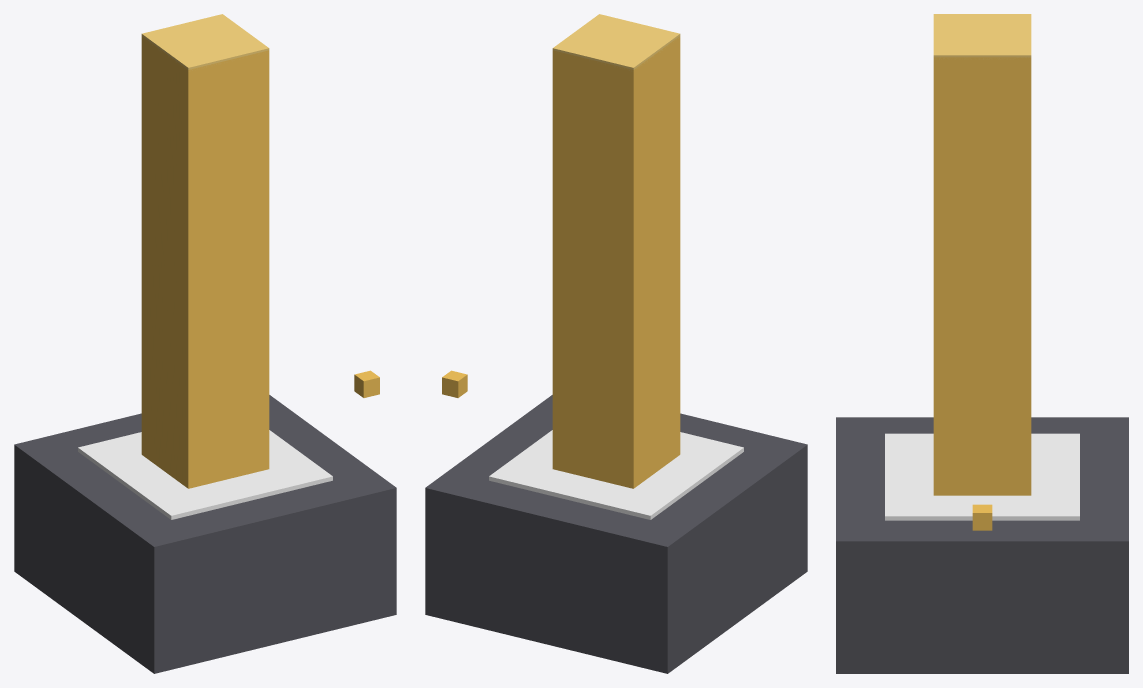
The picture shows the model from 3 angles, left to right: view 1: azimuth 30°, elevation 25°; view 2: azimuth 150°, elevation 25°; view 3: azimuth 270°, elevation 25°; orthographic projection. The views are drawn at different scales.
Parts seen in each view (by area): view 1: plinth, liquid, ring, surface, bead; view 2: plinth, liquid, ring, surface, bead; view 3: plinth, liquid, ring, surface, bead.
Part boxes in pixels (bbox=[...]): plinth: bbox=[14, 395, 396, 673]; liquid: bbox=[141, 36, 269, 488]; ring: bbox=[78, 430, 332, 519]; surface: bbox=[141, 14, 269, 71]; bead: bbox=[354, 370, 379, 397]; plinth: bbox=[425, 395, 807, 673]; liquid: bbox=[552, 36, 680, 488]; ring: bbox=[489, 430, 743, 519]; surface: bbox=[552, 14, 680, 71]; bead: bbox=[442, 370, 467, 397]; plinth: bbox=[836, 417, 1128, 673]; liquid: bbox=[933, 57, 1031, 495]; ring: bbox=[885, 433, 1079, 520]; surface: bbox=[933, 14, 1031, 59]; bead: bbox=[972, 504, 992, 530].
Bounding box in the file's own units: 0.72 × 1.3 × 0.6.
